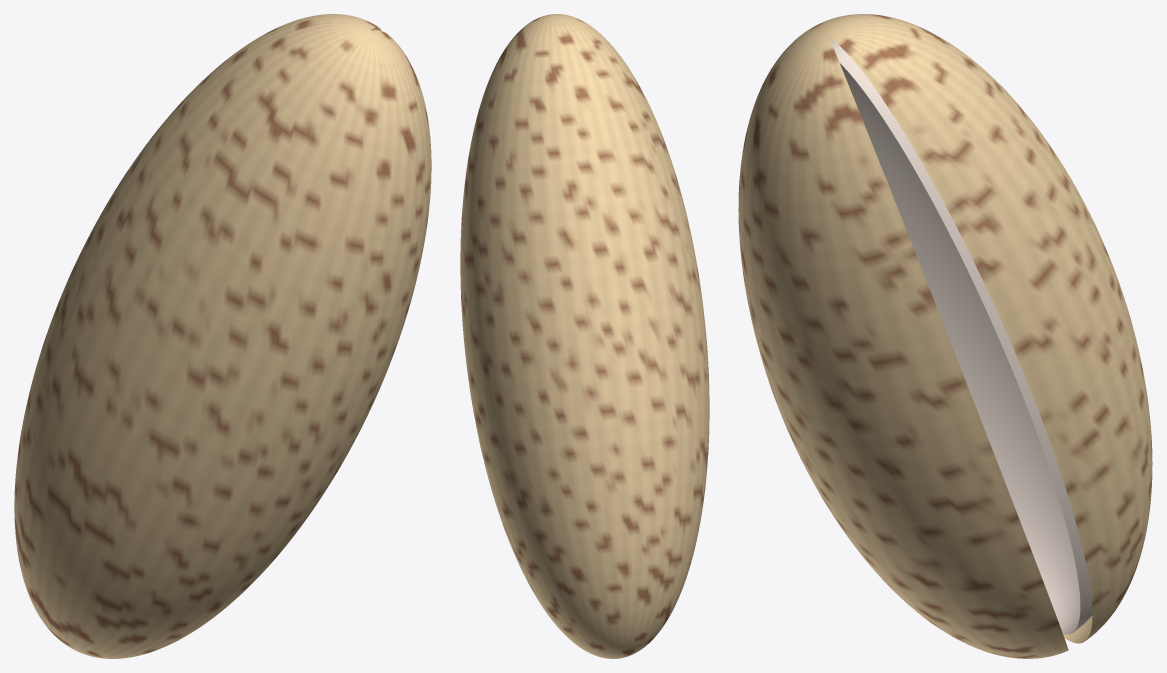
The model's file is olive-shell.glb.
3 views of the same model, side by side, from view 1: azimuth 30°, elevation 25°; view 2: azimuth 150°, elevation 25°; view 3: azimuth 270°, elevation 25° (orthographic). The views are drawn at different scales.
Parts seen in each view (by area): view 1: olive-shell; view 2: olive-shell; view 3: olive-shell.
Part boxes in pixels (x1=…): olive-shell: x1=14, y1=14, x2=431, y2=658; olive-shell: x1=460, y1=14, x2=709, y2=658; olive-shell: x1=738, y1=14, x2=1152, y2=658.
Bounding box in the file's own units: 1.01 × 2.06 × 1.09.
